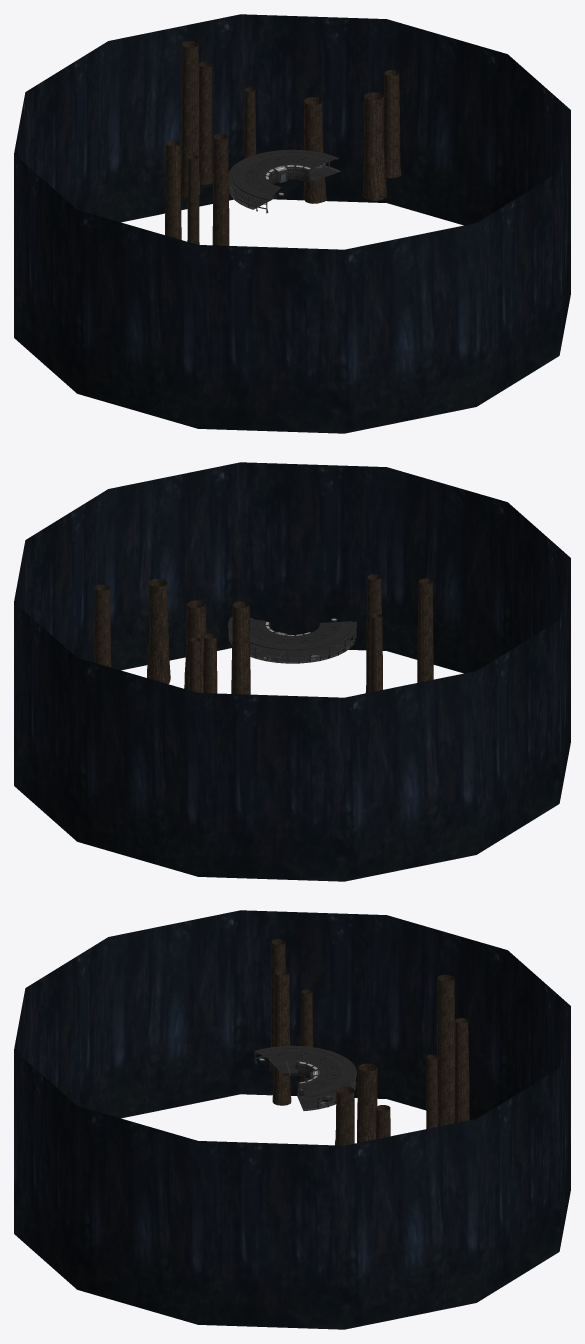
File: env_endor_landingpad_pre.glb
3 renders of one model, top to bottom at view 1: azimuth 30°, elevation 25°; view 2: azimuth 150°, elevation 25°; view 3: azimuth 270°, elevation 25°, orthographic.
Parts seen in each view (by area): view 1: end_forest_skybox_mesh, end_landing_ceiling, end_tree_trunk_bg_04, end_tree_trunk_03, end_tree_trunk_bg_01, end_tree_trunk_bg_05 (1), end_tree_trunk_bg_03, end_tree_trunk_bg_07, end_tree_trunk_05, end_tree_trunk_bg_08, end_tree_trunk_bg_05; view 2: end_forest_skybox_mesh, end_landing_ceiling, end_tree_trunk_03, end_tree_trunk_bg_04, end_tree_trunk_bg_07, end_tree_trunk_bg_05 (1), end_tree_trunk_05, end_tree_trunk_bg_01, end_tree_trunk_bg_08, end_tree_trunk_bg_03, end_tree_trunk_bg_05; view 3: end_forest_skybox_mesh, end_tree_trunk_bg_04, end_landing_ceiling, end_tree_trunk_bg_01, end_tree_trunk_05, end_tree_trunk_bg_03, end_tree_trunk_03, end_tree_trunk_bg_05, end_tree_trunk_bg_07, end_tree_trunk_bg_08.
Part boxes in pixels (x1=…): end_forest_skybox_mesh: x1=14, y1=14, x2=570, y2=433; end_landing_ceiling: x1=228, y1=149, x2=339, y2=201; end_tree_trunk_bg_04: x1=181, y1=40, x2=200, y2=197; end_tree_trunk_03: x1=362, y1=92, x2=386, y2=200; end_tree_trunk_bg_01: x1=212, y1=133, x2=229, y2=245; end_tree_trunk_bg_05 (1): x1=383, y1=70, x2=401, y2=178; end_tree_trunk_bg_03: x1=198, y1=61, x2=212, y2=184; end_tree_trunk_bg_07: x1=165, y1=140, x2=181, y2=239; end_tree_trunk_05: x1=303, y1=97, x2=326, y2=203; end_tree_trunk_bg_08: x1=187, y1=155, x2=199, y2=244; end_tree_trunk_bg_05: x1=244, y1=87, x2=255, y2=158; end_forest_skybox_mesh: x1=14, y1=462, x2=570, y2=881; end_landing_ceiling: x1=228, y1=617, x2=356, y2=652; end_tree_trunk_03: x1=147, y1=579, x2=170, y2=684; end_tree_trunk_bg_04: x1=231, y1=601, x2=250, y2=694; end_tree_trunk_bg_07: x1=417, y1=578, x2=433, y2=682; end_tree_trunk_bg_05 (1): x1=94, y1=584, x2=111, y2=667; end_tree_trunk_05: x1=184, y1=600, x2=206, y2=692; end_tree_trunk_bg_01: x1=365, y1=574, x2=381, y2=693; end_tree_trunk_bg_08: x1=370, y1=613, x2=382, y2=692; end_tree_trunk_bg_03: x1=203, y1=633, x2=217, y2=693; end_tree_trunk_bg_05: x1=189, y1=637, x2=201, y2=692; end_forest_skybox_mesh: x1=14, y1=910, x2=570, y2=1329; end_tree_trunk_bg_04: x1=437, y1=974, x2=455, y2=1126; end_landing_ceiling: x1=254, y1=1045, x2=356, y2=1099; end_tree_trunk_bg_01: x1=272, y1=969, x2=291, y2=1105; end_tree_trunk_05: x1=357, y1=1063, x2=377, y2=1142; end_tree_trunk_bg_03: x1=454, y1=1018, x2=469, y2=1123; end_tree_trunk_03: x1=335, y1=1086, x2=354, y2=1145; end_tree_trunk_bg_05: x1=426, y1=1054, x2=438, y2=1128; end_tree_trunk_bg_07: x1=269, y1=939, x2=285, y2=1073; end_tree_trunk_bg_08: x1=300, y1=989, x2=313, y2=1081.
Bounding box in the file's own units: 174 × 76.52 × 174.
18 materials, 18 textured.
